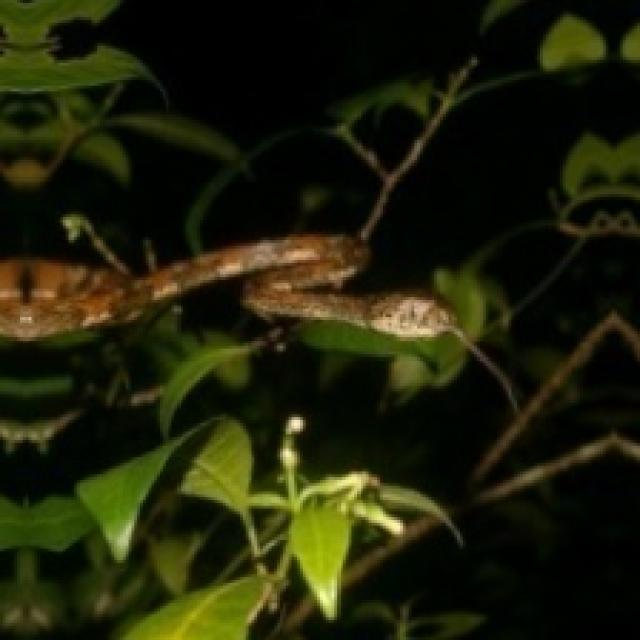philippine blunt-headed catsnake: (0, 234, 466, 337)
